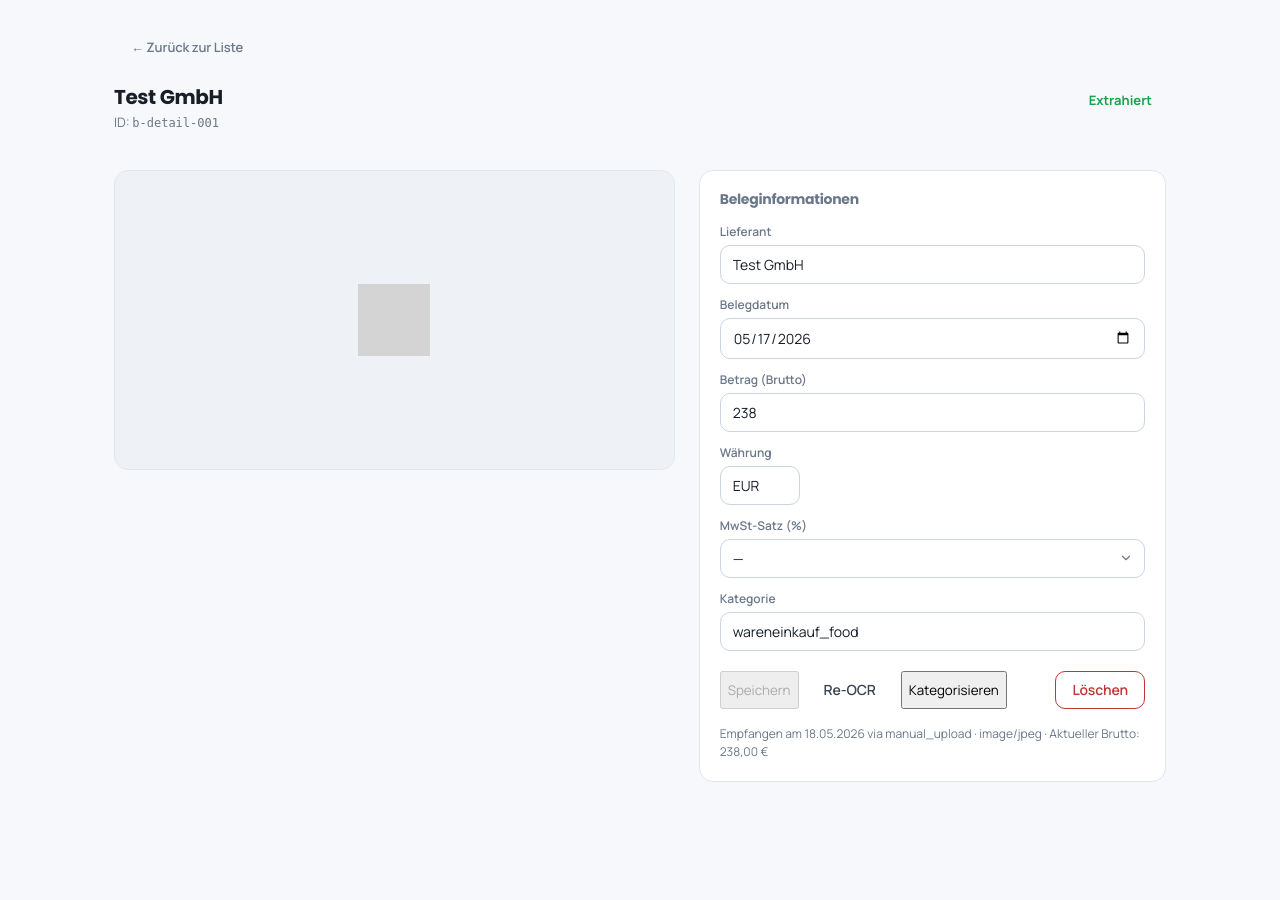
Scenario: BelegeDetailPage › T076: Kategorisieren ist bei ungespeicherten Änderungen gesperrt
Check: the button with test id "btn-categorize" is enabled, box [901,671,1007,709]
Replace the text in the field with test id "field-supplier_name" with "Geändert" at (932, 264), box [720,245,1145,284]
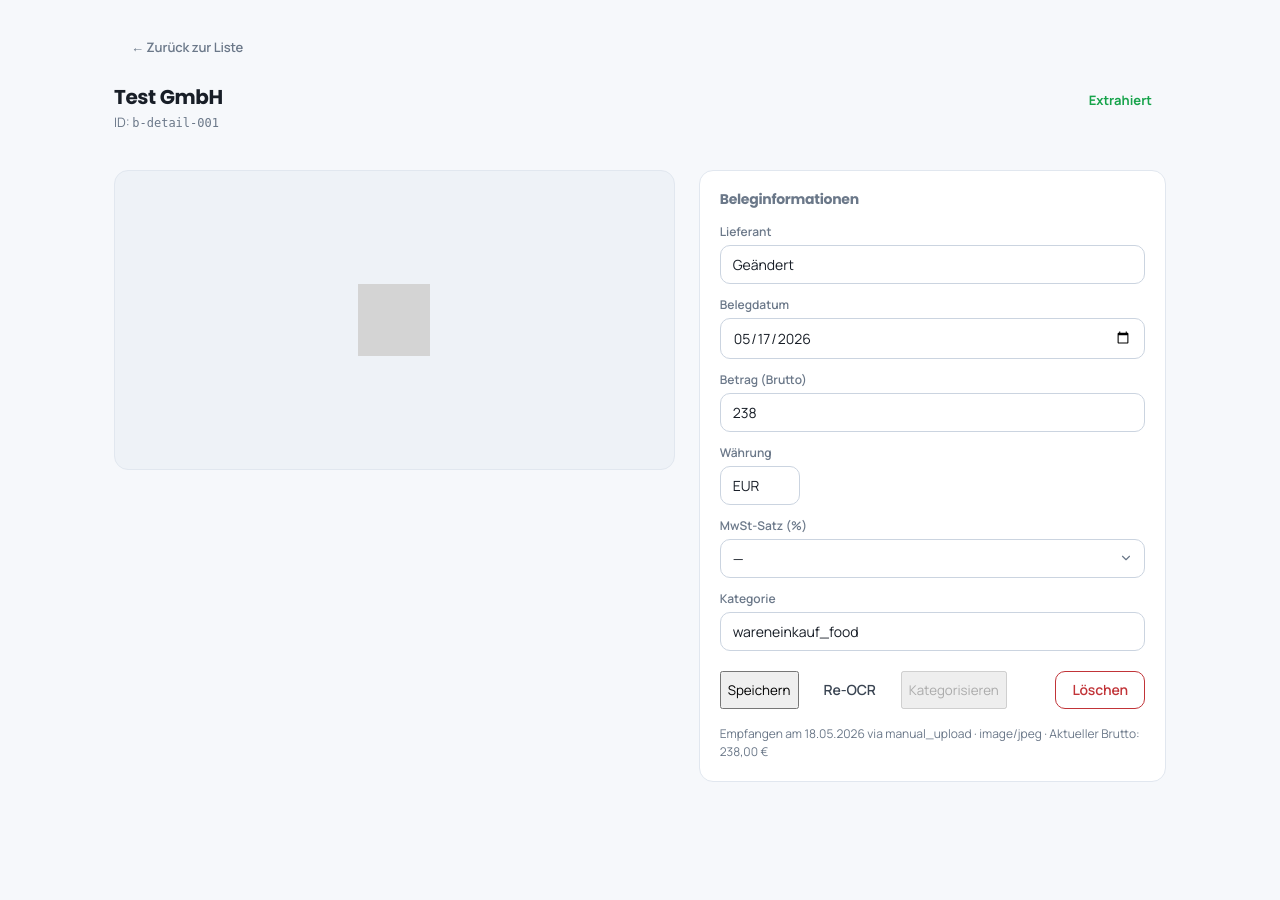
Check: the button with test id "btn-categorize" is disabled, box [901,671,1007,709]
